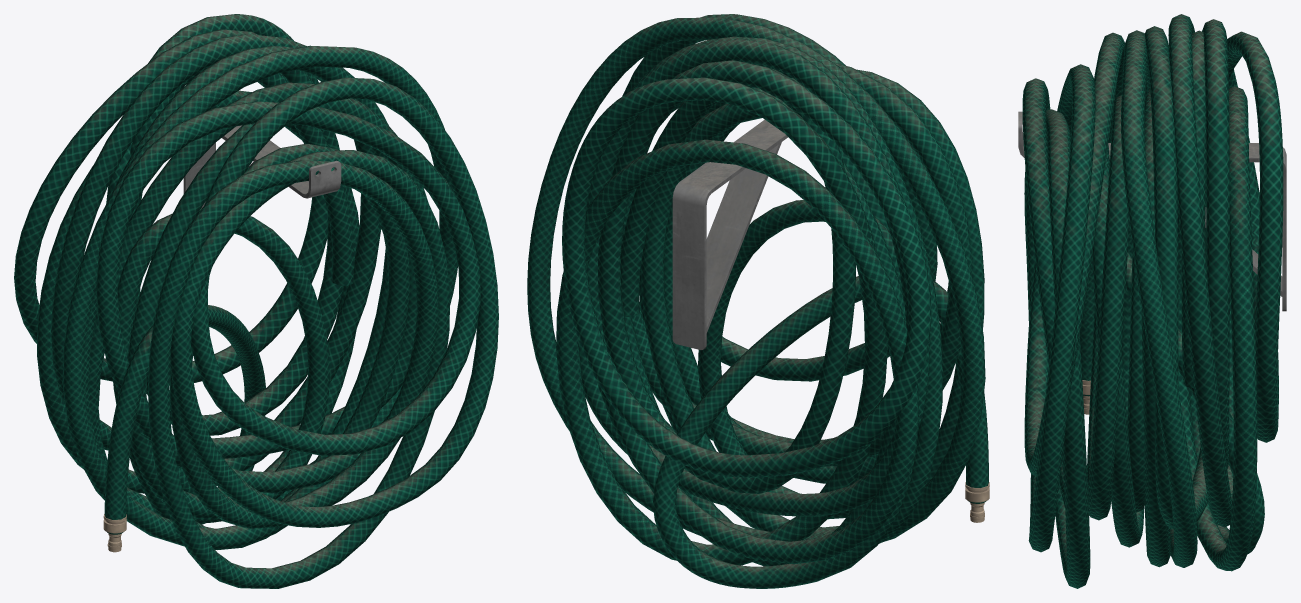
The model's file is garden_hose_wall_mounted_01_2k.gltf.
3 views of the same model, side by side, from view 1: azimuth 30°, elevation 25°; view 2: azimuth 150°, elevation 25°; view 3: azimuth 270°, elevation 25° (orthographic). The views are drawn at different scales.
Visible parts, largest first — view 1: garden_hose, garden_hose_wall_bracket; view 2: garden_hose, garden_hose_wall_bracket; view 3: garden_hose, garden_hose_wall_bracket.
Boxes of the visible parts, x1,y1,x2,y2 form: garden_hose: (14,14,498,588); garden_hose_wall_bracket: (183,125,341,207); garden_hose: (527,14,989,588); garden_hose_wall_bracket: (672,119,787,349); garden_hose: (1022,14,1283,588); garden_hose_wall_bracket: (1018,111,1286,311).
Size of the model in its own units: 0.4667 by 0.557 by 0.2503.
Materials: 1 (1 with a texture image).
